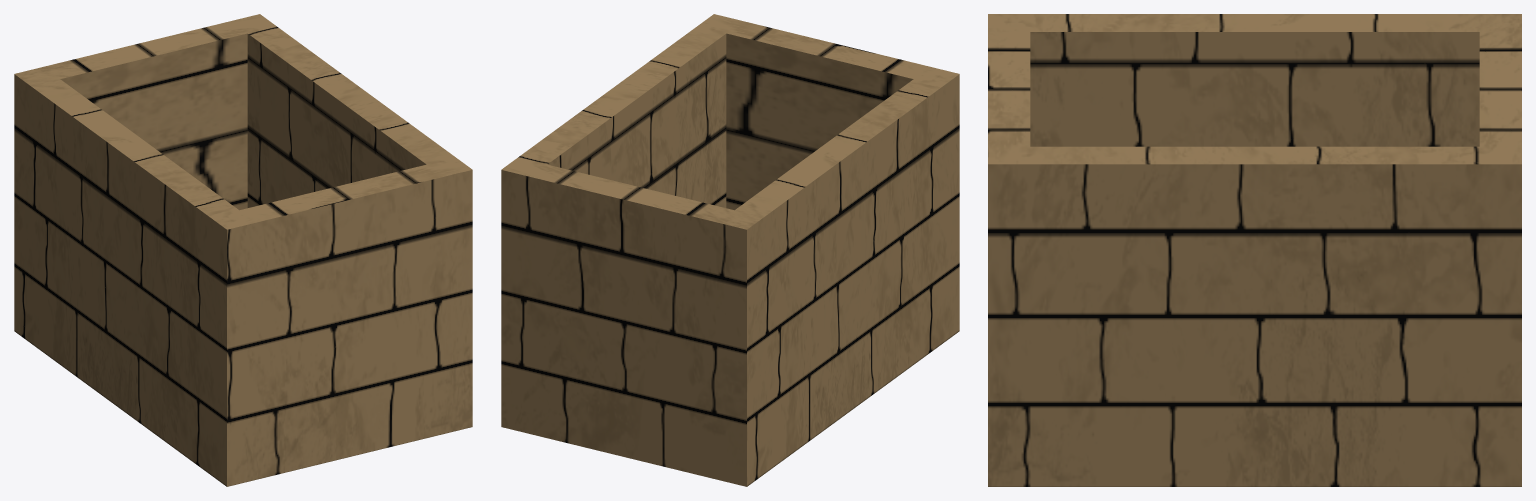
Rendered from Pila.fbx.
3 renders of one model, left to right at view 1: azimuth 30°, elevation 25°; view 2: azimuth 150°, elevation 25°; view 3: azimuth 270°, elevation 25°, orthographic. The views are drawn at different scales.
Visible parts, largest first — view 1: Box001; view 2: Box001; view 3: Box001.
Part boxes in pixels (x1,y1,x2,y2): Box001: (14, 14, 472, 486); Box001: (501, 14, 959, 486); Box001: (988, 14, 1521, 486).
Bounding box in the file's own units: 0.5 × 0.5 × 0.75.
1 material, 1 textured.
